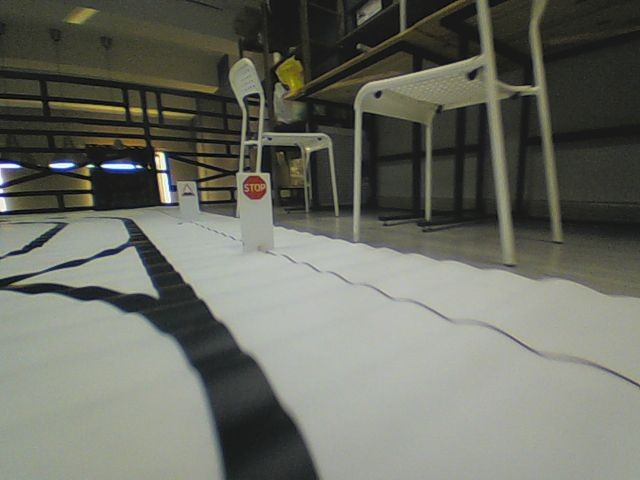Nerov: (179, 183, 195, 198)
Stop: (241, 174, 267, 201)
